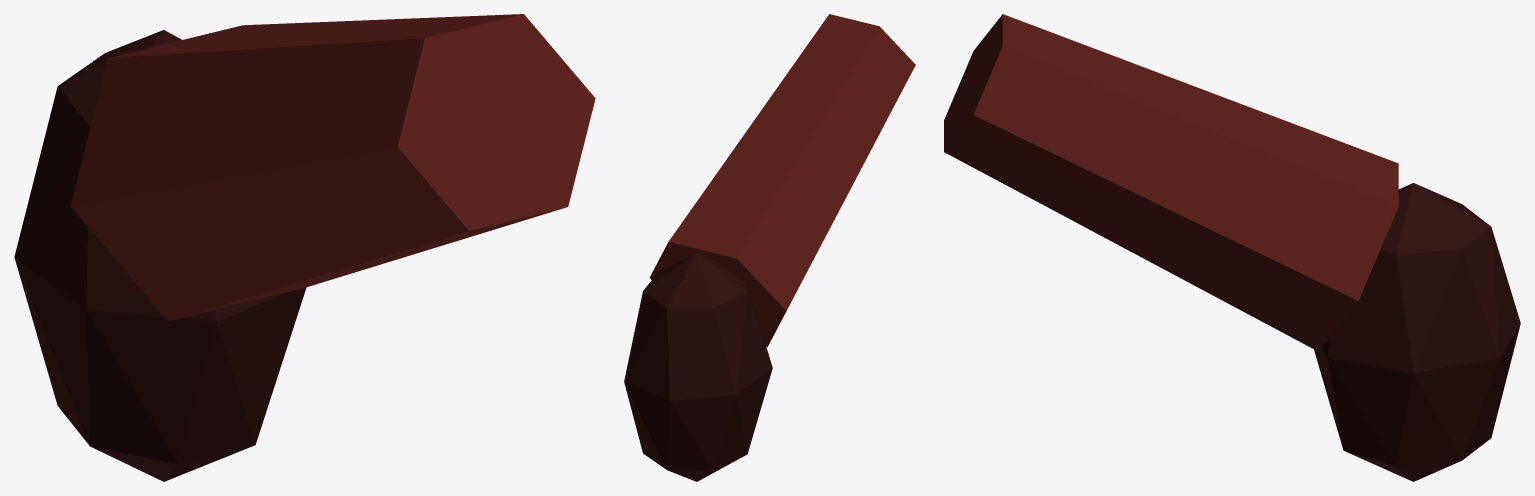
The model's file is wolf_3_tail.glb.
3 renders of one model, left to right at view 1: azimuth 30°, elevation 25°; view 2: azimuth 150°, elevation 25°; view 3: azimuth 270°, elevation 25°, orthographic. The views are drawn at different scales.
Visible parts, largest first — view 1: wolf_3_tail; view 2: wolf_3_tail; view 3: wolf_3_tail.
Part boxes in pixels (bbox=[...]): wolf_3_tail: bbox=[14, 14, 595, 481]; wolf_3_tail: bbox=[624, 14, 915, 481]; wolf_3_tail: bbox=[944, 14, 1520, 481].
Bounding box in the file's own units: 0.15 × 0.3626 × 0.4193.
